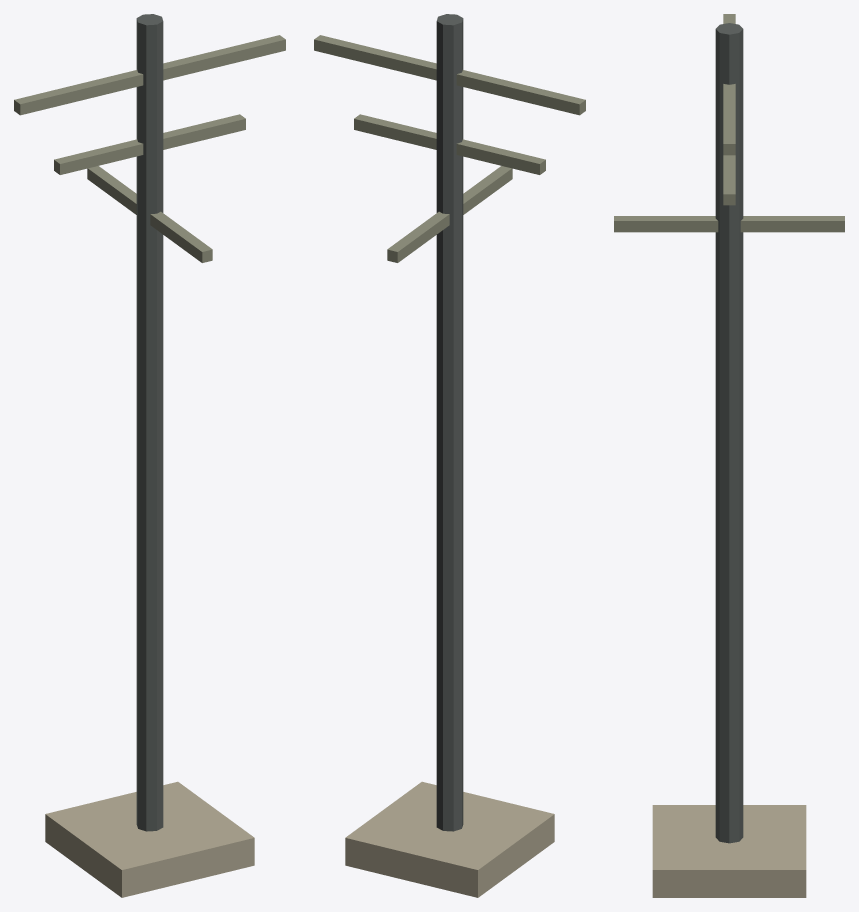
File: antenna-mast.glb
3 views of the same model, side by side, from view 1: azimuth 30°, elevation 25°; view 2: azimuth 150°, elevation 25°; view 3: azimuth 270°, elevation 25° (orthographic).
Parts seen in each view (by area): view 1: antenna-mast-1, antenna-mast-0, antenna-mast-2, antenna-mast-3, antenna-mast-4; view 2: antenna-mast-1, antenna-mast-0, antenna-mast-2, antenna-mast-3, antenna-mast-4; view 3: antenna-mast-1, antenna-mast-0, antenna-mast-4, antenna-mast-2, antenna-mast-3.
Part boxes in pixels (bbox=[...]): antenna-mast-1: bbox=[136, 14, 163, 831]; antenna-mast-0: bbox=[45, 781, 254, 897]; antenna-mast-2: bbox=[14, 35, 285, 115]; antenna-mast-3: bbox=[54, 114, 245, 174]; antenna-mast-4: bbox=[87, 166, 212, 262]; antenna-mast-1: bbox=[436, 14, 463, 831]; antenna-mast-0: bbox=[345, 781, 554, 897]; antenna-mast-2: bbox=[314, 35, 585, 115]; antenna-mast-3: bbox=[354, 114, 545, 174]; antenna-mast-4: bbox=[387, 166, 512, 262]; antenna-mast-1: bbox=[715, 23, 743, 843]; antenna-mast-0: bbox=[652, 805, 806, 897]; antenna-mast-4: bbox=[614, 216, 844, 232]; antenna-mast-2: bbox=[723, 14, 735, 155]; antenna-mast-3: bbox=[723, 155, 735, 205].
Size of the model in its own units: 2 by 6 by 1.5.
